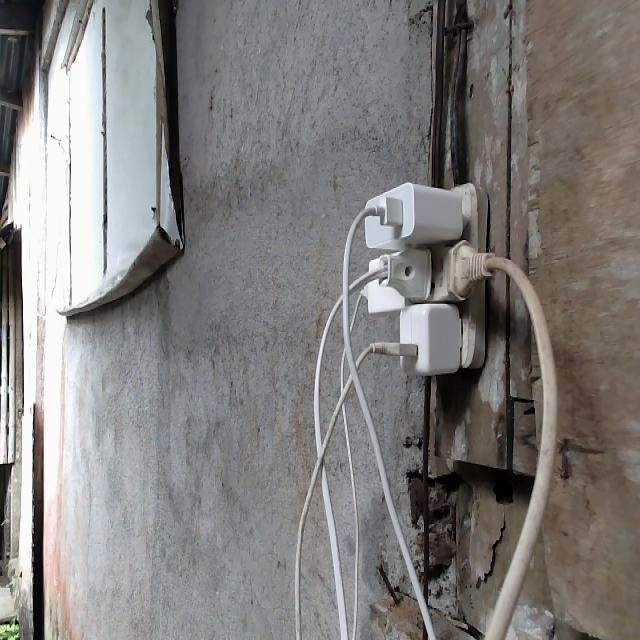-: (351, 175, 493, 380)
